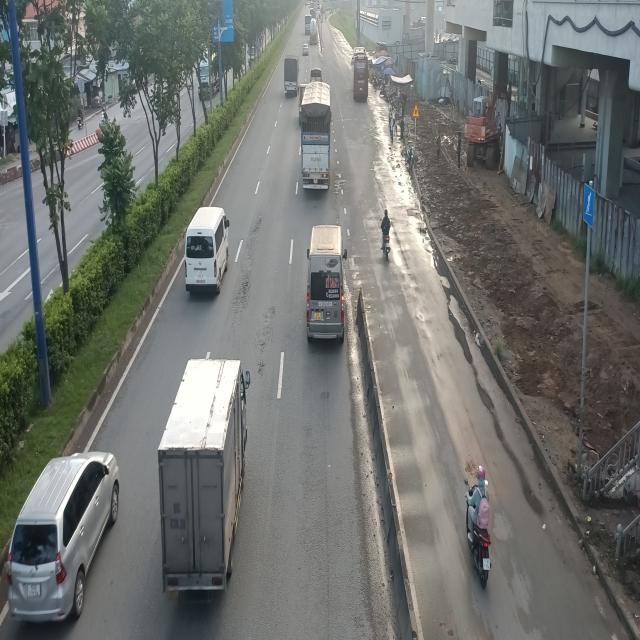car: (8, 455, 122, 630)
coach: (352, 48, 370, 98)
truck: (156, 362, 249, 604), (299, 82, 333, 192), (284, 55, 299, 97)
van: (304, 225, 346, 346), (184, 204, 231, 294)
